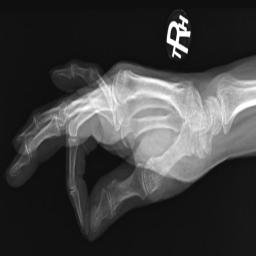cancer: (123, 72, 144, 99)
